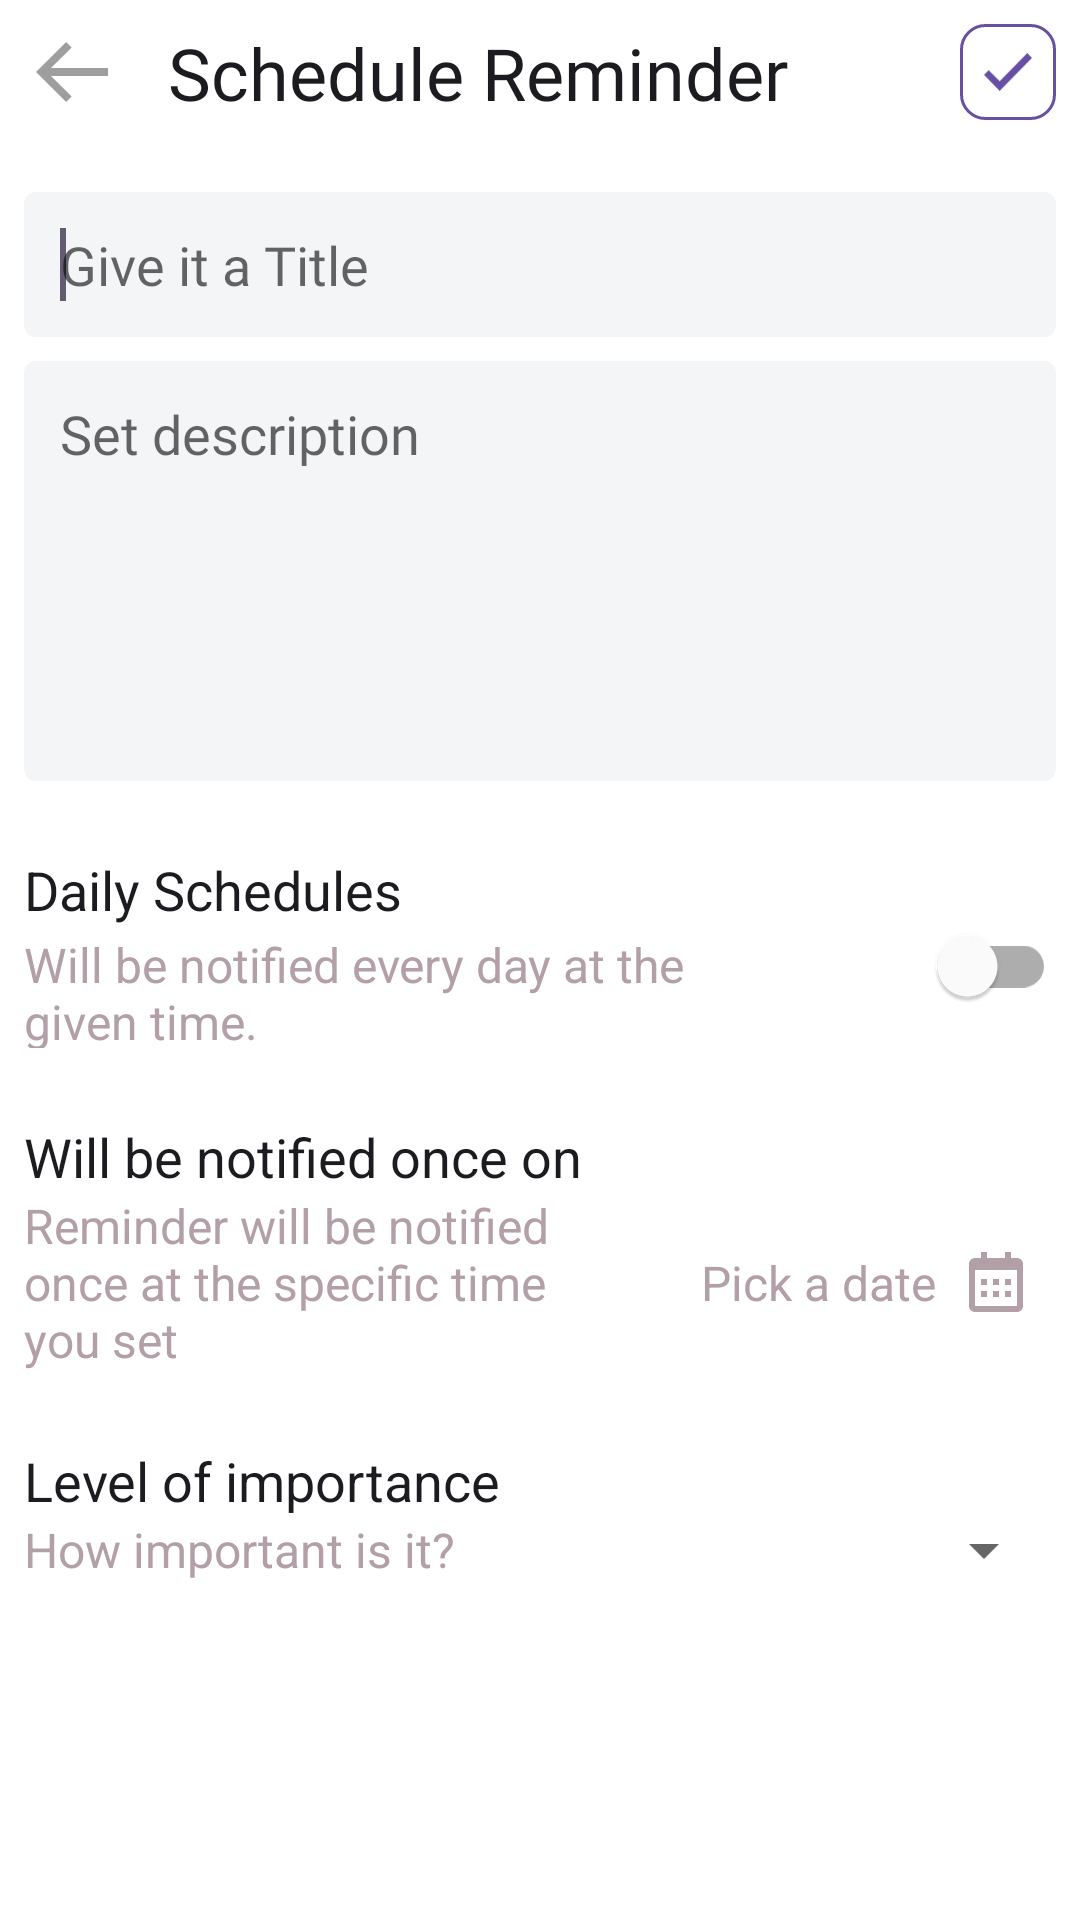

Icons on this 1080px x 1920px Android screen, each with its box as [x1=x1, y1=y1, x2=x2, y2=y2]:
calendar: [x1=969, y1=1252, x2=1023, y2=1312]
Go Back button: [x1=36, y1=42, x2=108, y2=102]
